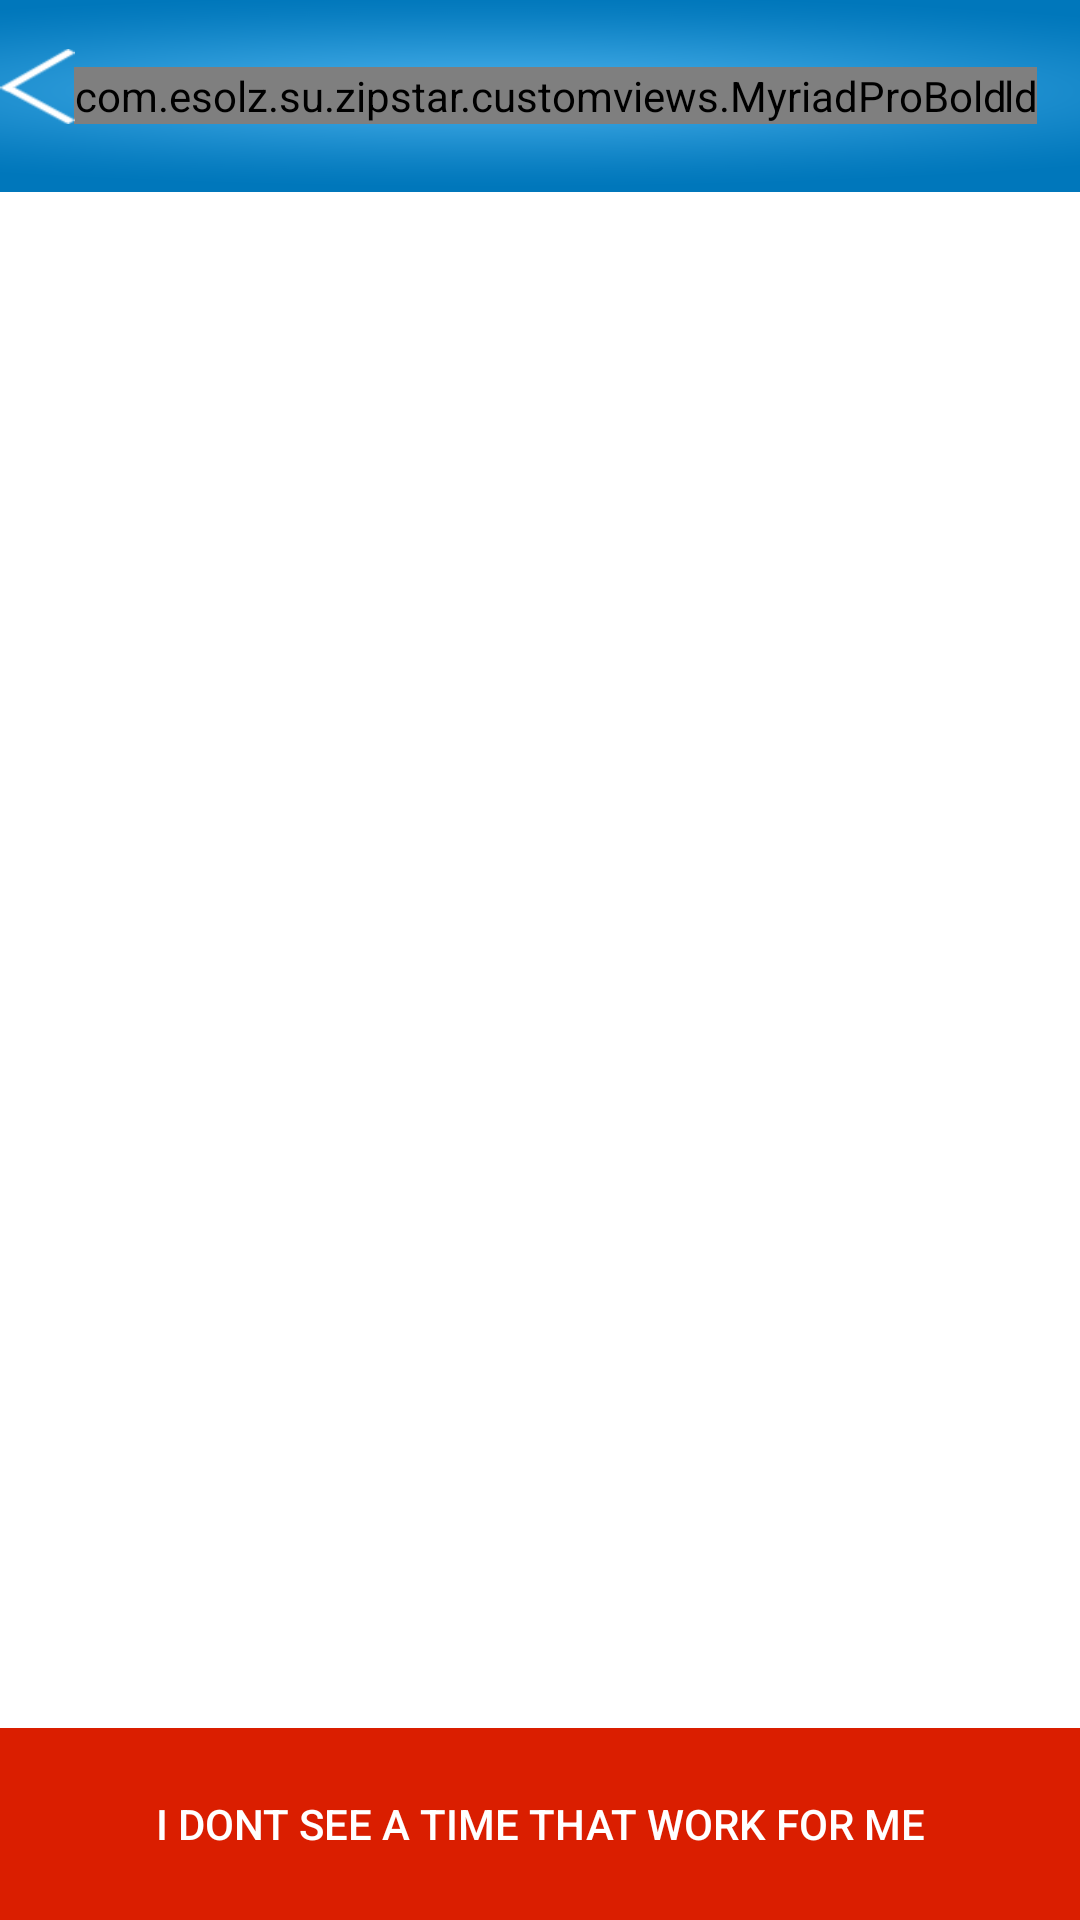

Where icons sit on this 1080px x 1920px app screen, as (x1, y1, x2, y2):
back: (0, 49, 75, 124)
